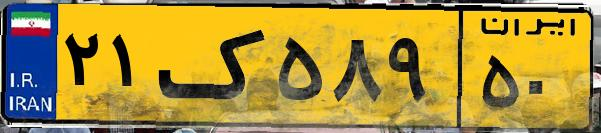0: (525, 38, 570, 115)
1: (110, 28, 158, 98)
2: (57, 26, 110, 100)
5: (270, 28, 330, 110), (475, 38, 525, 113)
8: (330, 28, 385, 110)
9: (385, 28, 445, 110)
ک: (158, 12, 270, 120)
